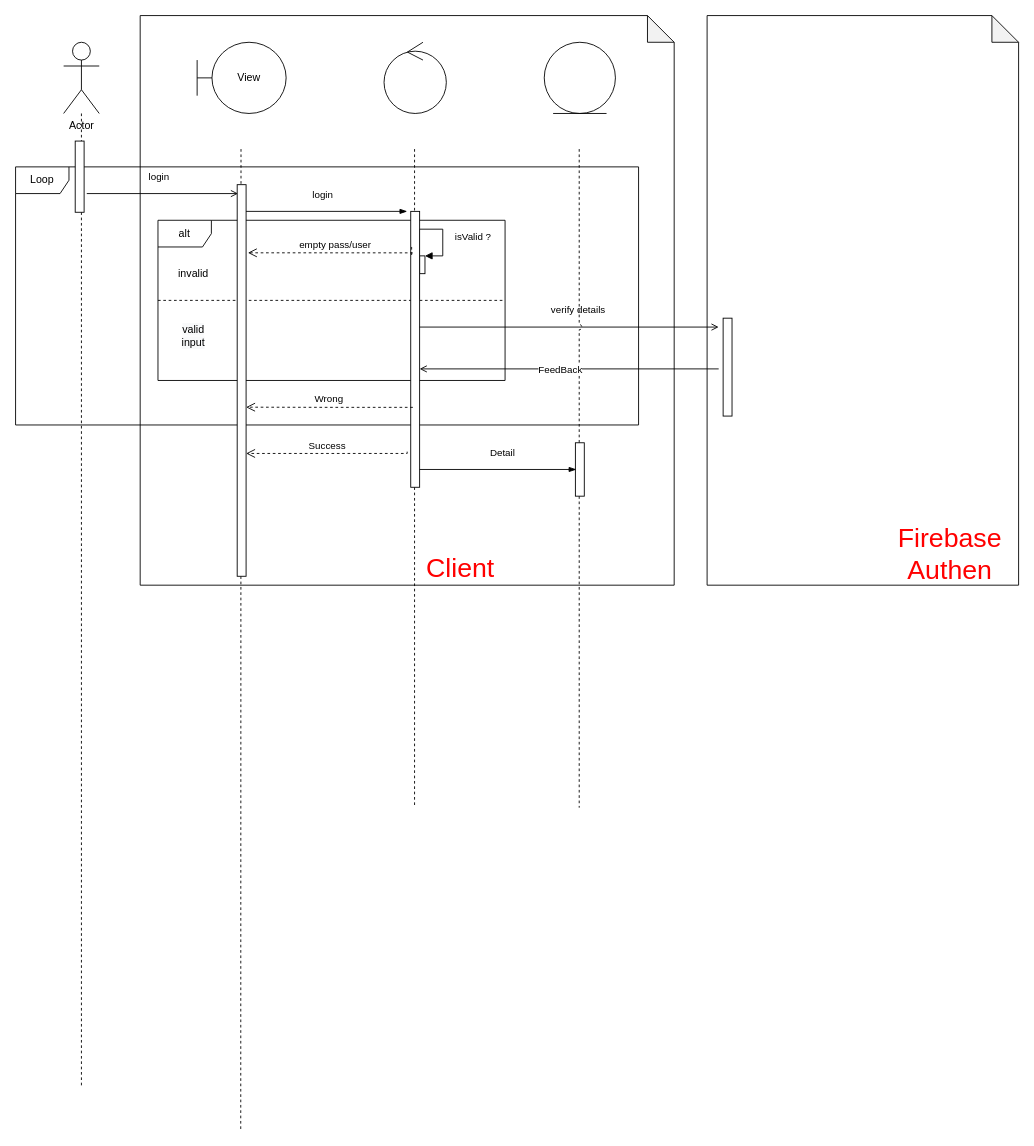
Some shapes in this 1034 by 1146 pixel diagram are drawn without their labels. Each missing label, with the centre of its shape:
Controller: (x=414, y=77)
Model: (x=579, y=77)
